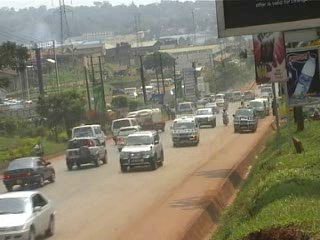Car: (0, 189, 57, 239), (116, 128, 166, 175), (0, 153, 59, 192), (64, 136, 109, 171), (116, 122, 144, 153), (203, 99, 220, 115), (215, 97, 229, 108)
Motorcycle: (221, 111, 229, 127)
